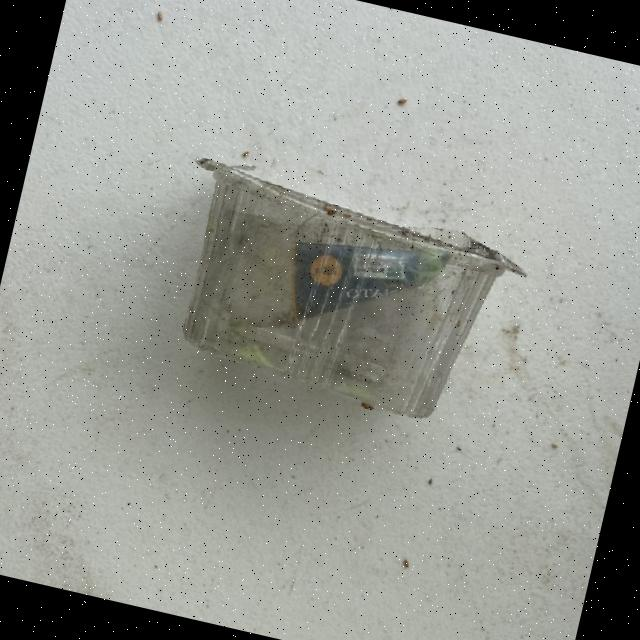plastic: (148, 152, 536, 436)
